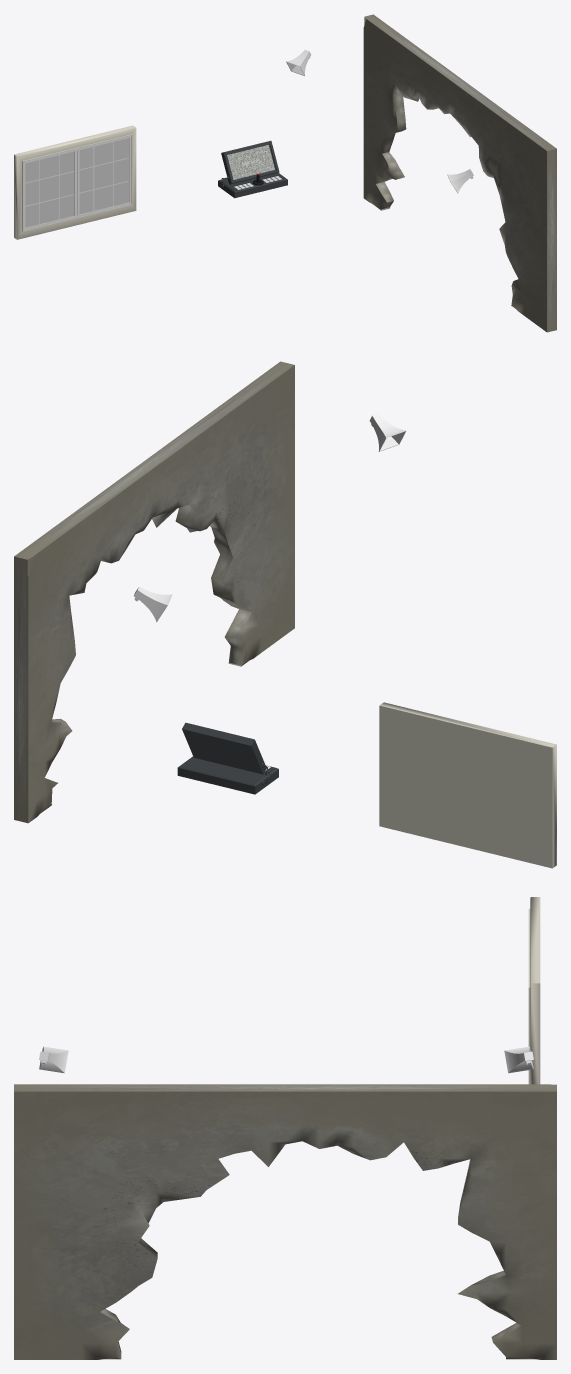
File: extras_001.fbx
The picture shows the model from 3 angles, top to bottom: view 1: azimuth 30°, elevation 25°; view 2: azimuth 150°, elevation 25°; view 3: azimuth 270°, elevation 25°; orthographic projection. The views are drawn at different scales.
Visible parts, largest first — view 1: front_wall_destroyed, window, glass, glass_1, Cube_1_3, Cube; view 2: front_wall_destroyed, window, Cube_1_3, Cube, Cube_3_4, Cube_2_7; view 3: front_wall_destroyed, window, Cube_2_7, Cube_3_4.
Part boxes in pixels (x1=…): front_wall_destroyed: x1=363, y1=14, x2=556, y2=332; window: x1=14, y1=125, x2=136, y2=239; glass: x1=25, y1=151, x2=74, y2=227; glass_1: x1=79, y1=138, x2=128, y2=214; Cube_1_3: x1=221, y1=140, x2=279, y2=184; Cube: x1=218, y1=172, x2=287, y2=198; front_wall_destroyed: x1=14, y1=361, x2=294, y2=823; window: x1=379, y1=702, x2=556, y2=868; Cube_1_3: x1=182, y1=722, x2=266, y2=774; Cube: x1=177, y1=756, x2=278, y2=794; Cube_3_4: x1=369, y1=413, x2=406, y2=451; Cube_2_7: x1=134, y1=586, x2=172, y2=622; front_wall_destroyed: x1=14, y1=1084, x2=556, y2=1359; window: x1=528, y1=897, x2=540, y2=1084; Cube_2_7: x1=504, y1=1046, x2=533, y2=1073; Cube_3_4: x1=39, y1=1046, x2=68, y2=1073.
Size of the model in its own units: 562 by 266 by 488.
Materials: 9 (3 with a texture image).
